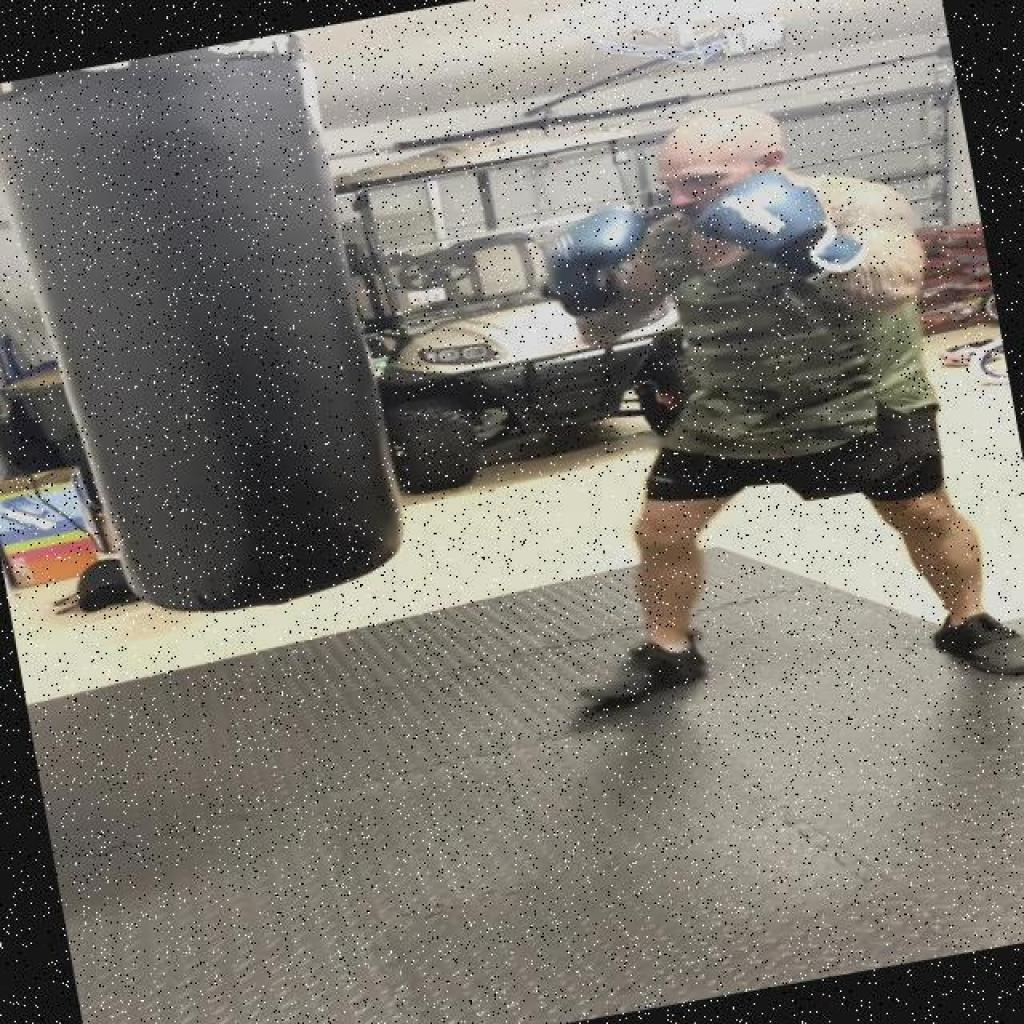bag: (24, 27, 413, 632)
no punch: (514, 78, 940, 390)
